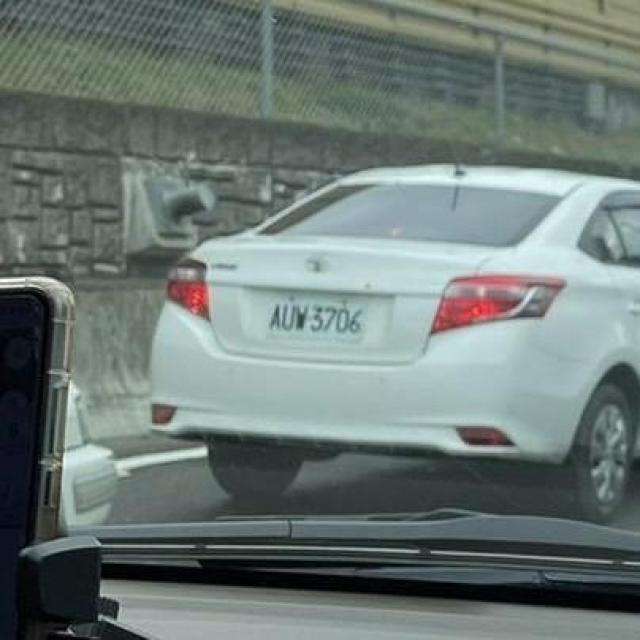W: (263, 286, 371, 344)
